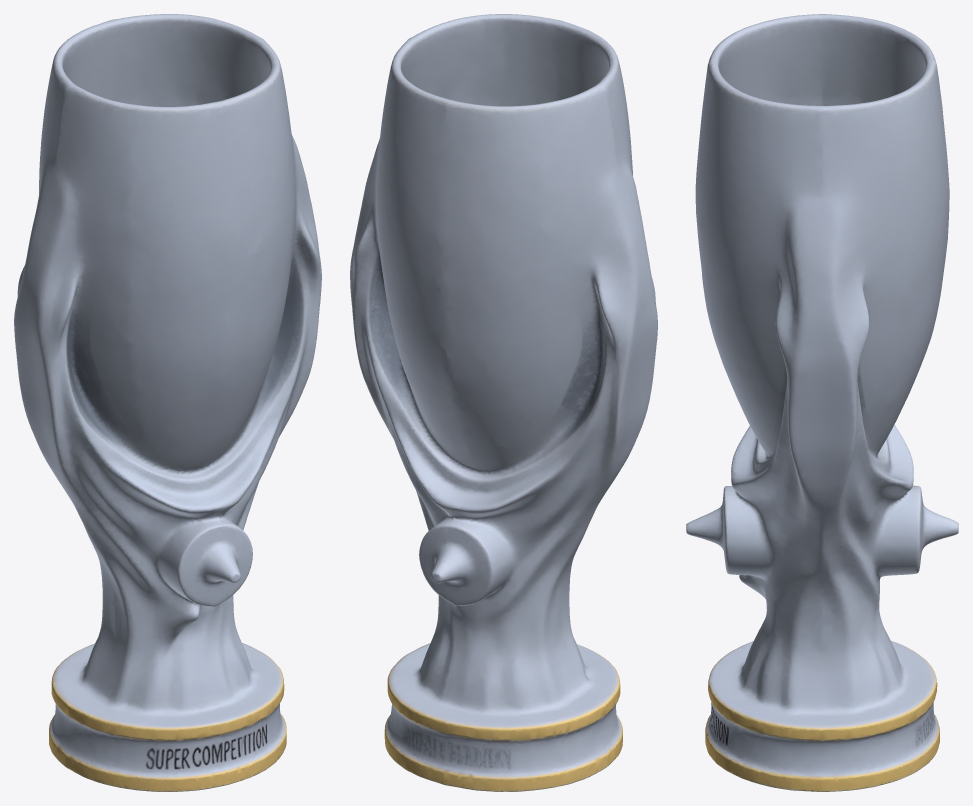
Rendered from usc.glb.
3 views of the same model, side by side, from view 1: azimuth 30°, elevation 25°; view 2: azimuth 150°, elevation 25°; view 3: azimuth 270°, elevation 25° (orthographic).
Size of the model in its own units: 0.8188 by 1.9 by 0.6874.
Materials: 1 (1 with a texture image).
